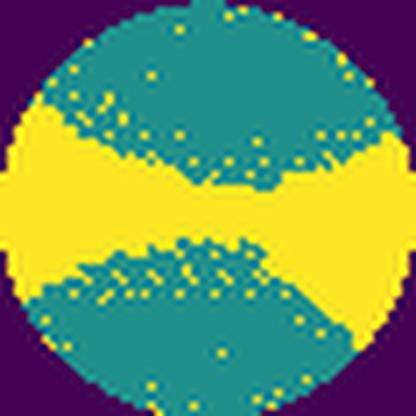Loc: (1, 93, 416, 352)
